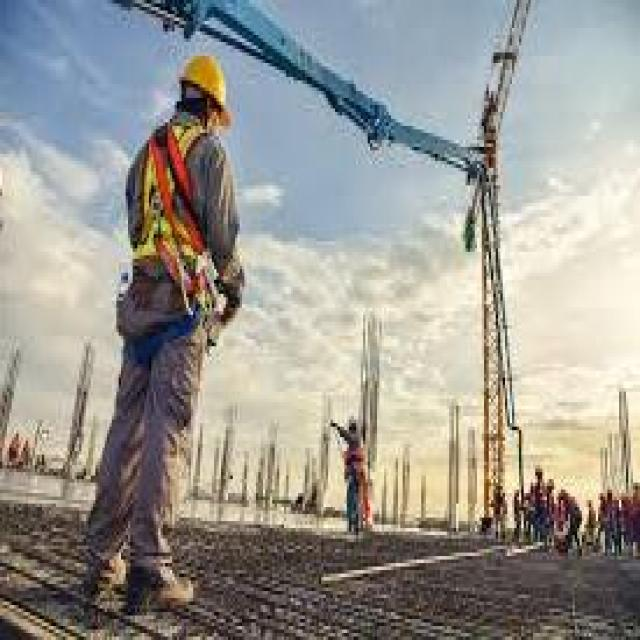Reflective-Jacket: (116, 112, 233, 308)
Safety-Helmet: (170, 46, 237, 130)
